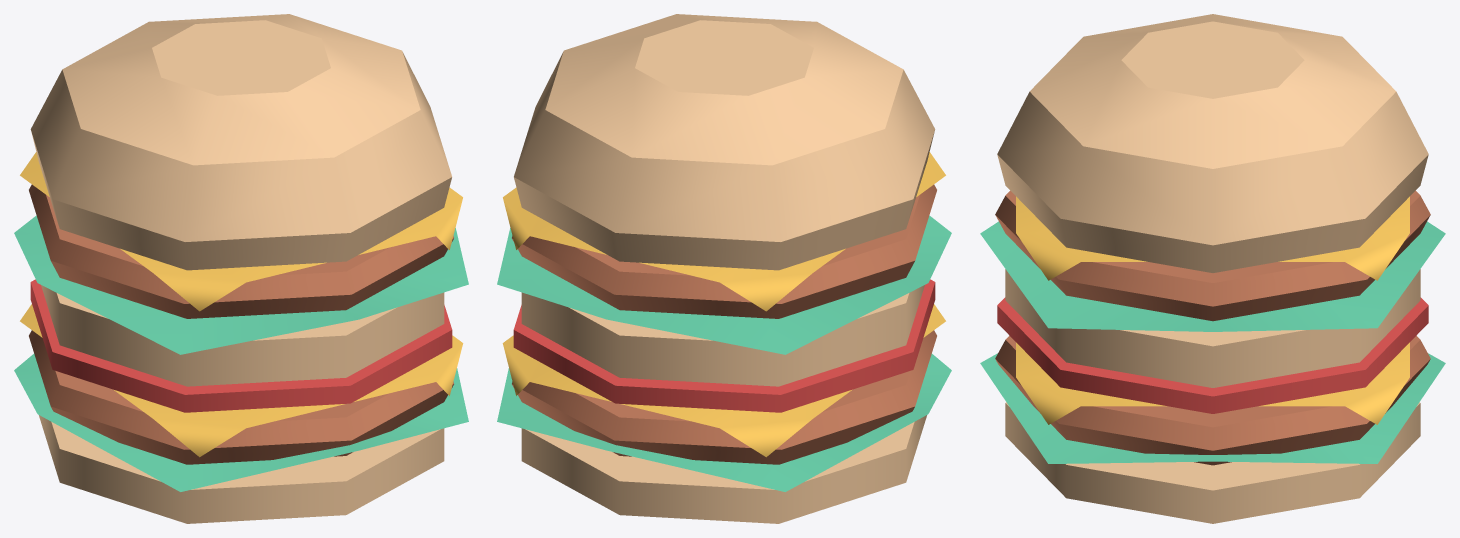
The model's file is burgerDouble.glb.
3 views of the same model, side by side, from view 1: azimuth 30°, elevation 25°; view 2: azimuth 150°, elevation 25°; view 3: azimuth 270°, elevation 25° (orthographic).
Visible parts, largest first — view 1: bunTop, bunBottom (×2), patty (×2), salad (×2), cheese (×2), tomato; view 2: bunTop, bunBottom (×2), patty (×2), salad (×2), cheese (×2), tomato; view 3: bunTop, bunBottom (×2), patty (×2), salad (×2), tomato, cheese (×2).
Boxes of the visible parts, x1,y1,x2,y2 form: bunTop: (30,14,451,270); bunBottom (×2): (39,285,444,523); patty (×2): (29,184,453,464); salad (×2): (14,215,468,491); cheese (×2): (20,152,463,457); tomato: (30,279,452,412); bunTop: (514,14,935,270); bunBottom (×2): (521,285,926,523); patty (×2): (512,184,936,464); salad (×2): (497,215,951,491); cheese (×2): (502,152,945,457); tomato: (513,279,935,412); bunTop: (997,14,1428,272); bunBottom (×2): (1005,269,1420,523); patty (×2): (995,190,1430,465); salad (×2): (980,221,1445,463); tomato: (997,297,1428,413); cheese (×2): (1016,196,1409,424).
Size of the model in its own units: 0.4041 by 0.36 by 0.4041.
